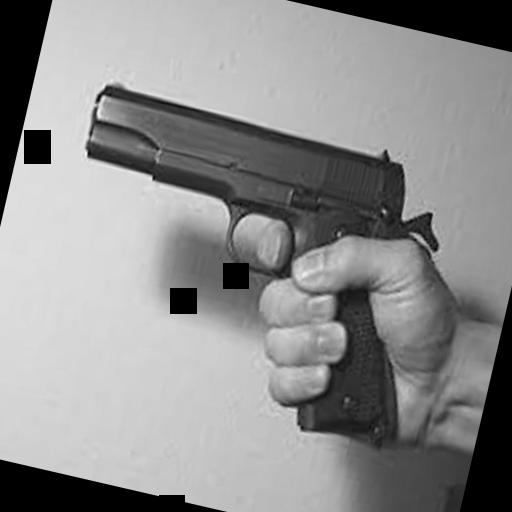Handgun: (28, 64, 470, 456)
